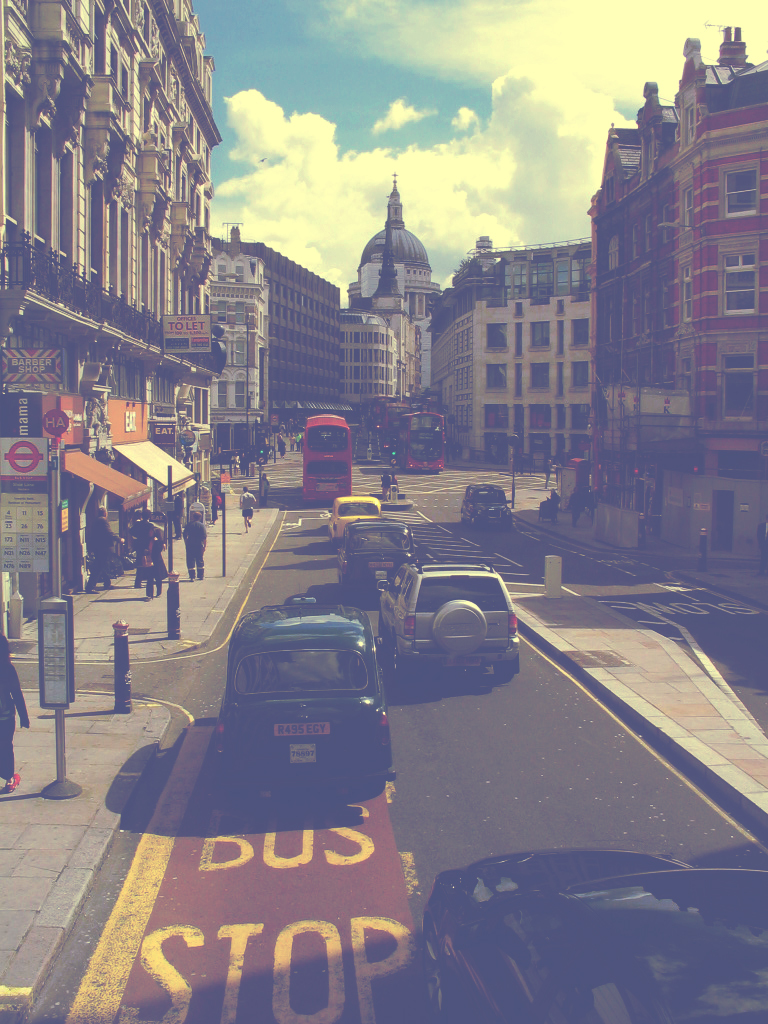Car: (418, 849, 767, 1022), (214, 602, 392, 778), (370, 558, 520, 680), (319, 492, 383, 552), (458, 487, 509, 528)
